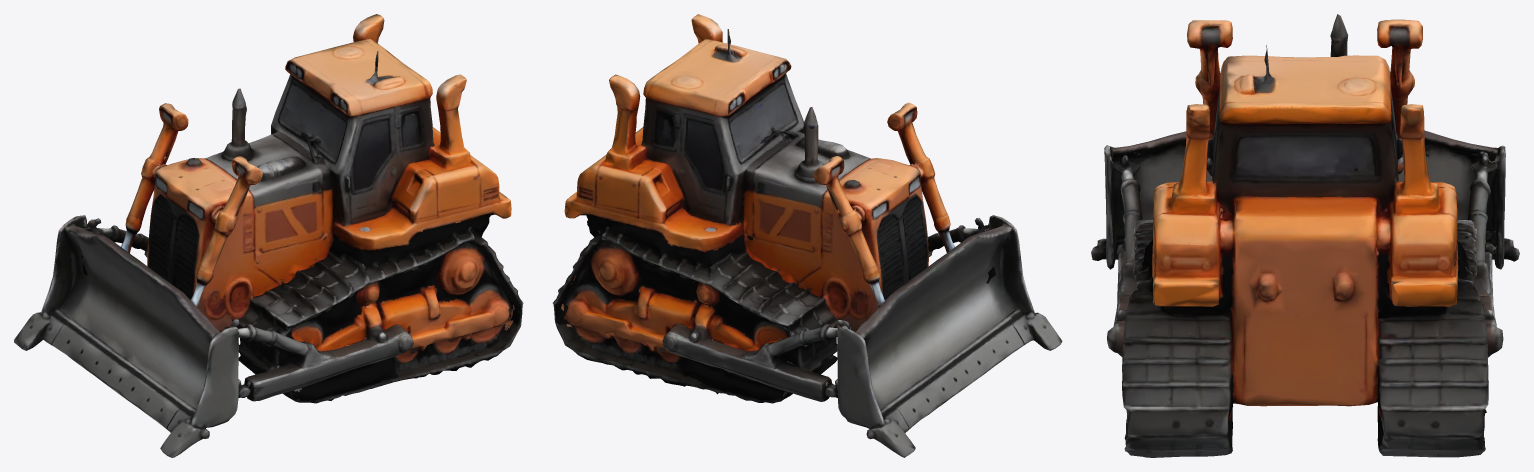
3 views of the same model, side by side, from view 1: azimuth 30°, elevation 25°; view 2: azimuth 150°, elevation 25°; view 3: azimuth 270°, elevation 25° (orthographic). The views are drawn at different scales.
Parts seen in each view (by area): view 1: Mesh_0; view 2: Mesh_0; view 3: Mesh_0.
Part boxes in pixels (box(x1,y1,x2,y2)): Mesh_0: box(14, 14, 523, 457); Mesh_0: box(552, 14, 1062, 457); Mesh_0: box(1091, 14, 1519, 457).
Size of the model in its own units: 2.9 by 2.25 by 2.28.
Materials: 1 (1 with a texture image).
